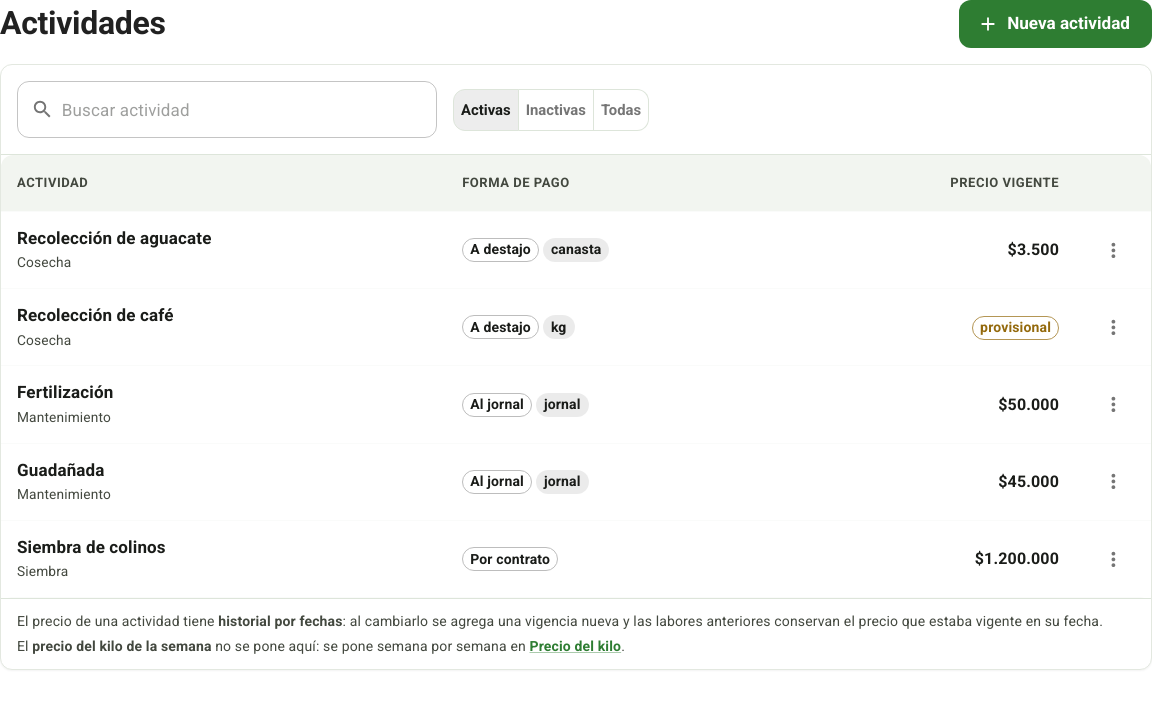
creating a new activity › warns, for real, about what a fixed price does to coffee picking
Expected: the text "Recolección de café" is shown, [17,305,174,325]
What coordinates should you click on to do the following:
click the button "Nueva actividad"
I would click on:
 (1056, 24)
Its box is [959,0,1151,48].
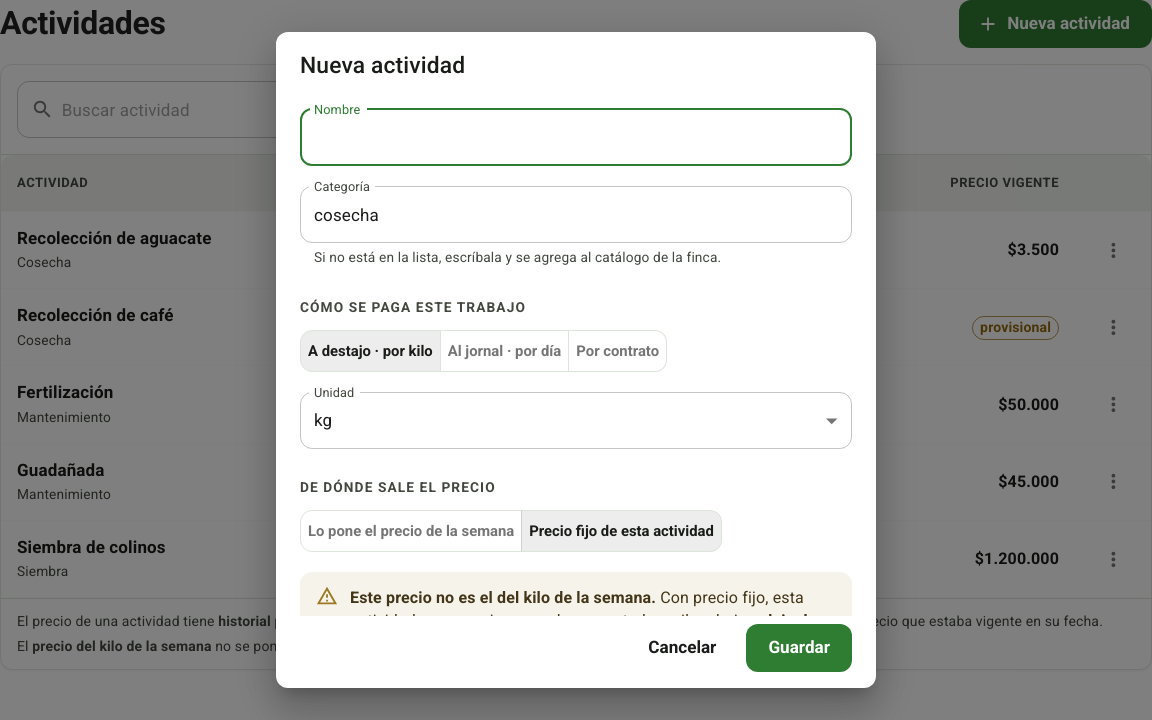
Expected: the text "Este precio no es el del kilo de la semana." is shown, [350,588,656,607]
Note: And once the week's price is chosen the warning is moot and goes away.
What coordinates should you click on to do the following:
click the button "Lo pone el precio de la semana"
I would click on:
 (411, 531)
Its box is [300,510,522,552].
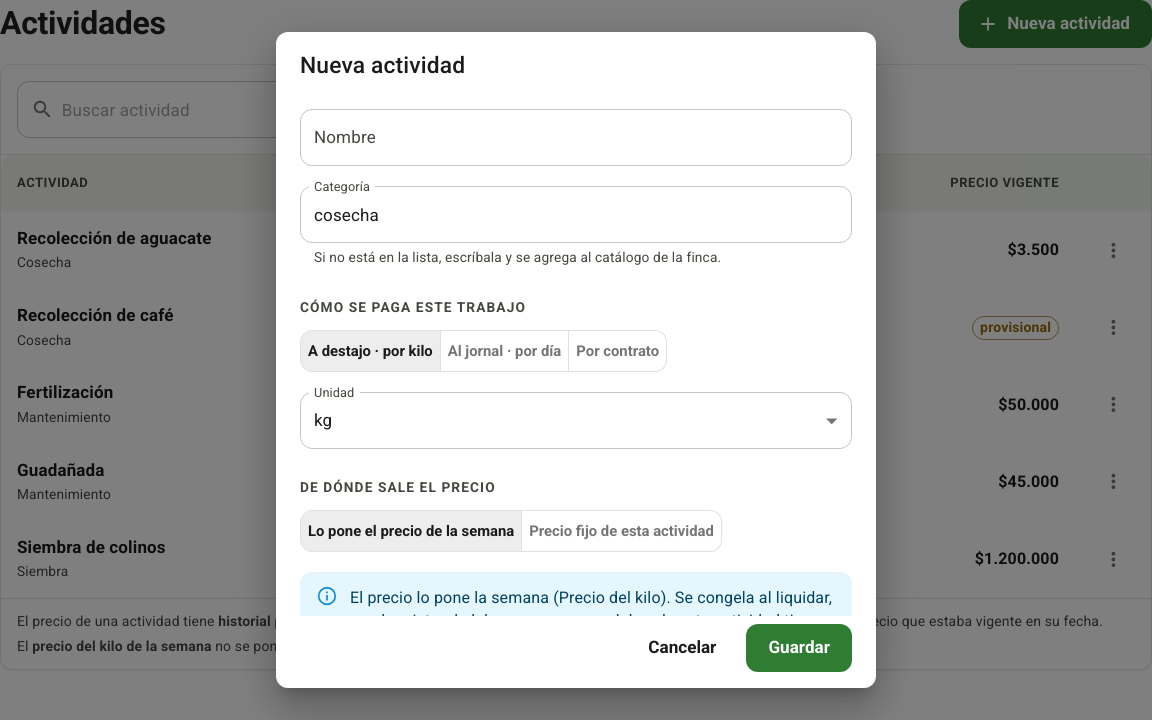
Expected: the text "Este precio no es el del kilo de la semana" is gone
